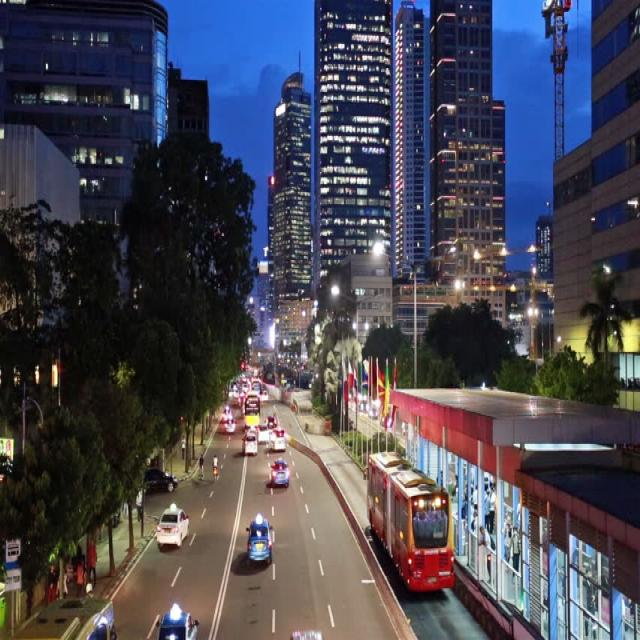AB: (364, 447, 459, 605)
